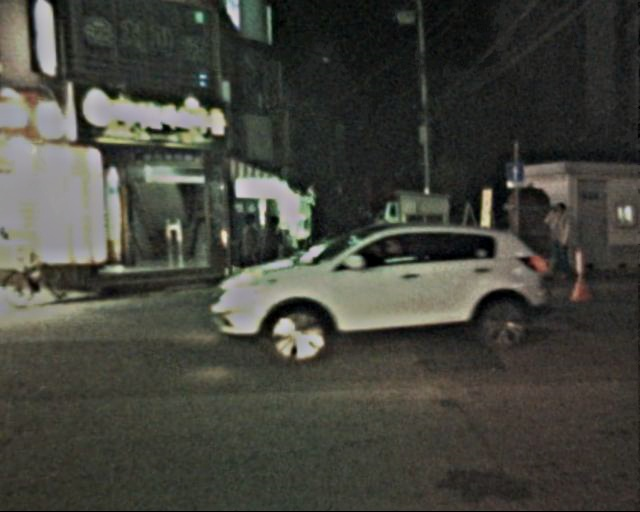person: (237, 212, 289, 302), (543, 202, 579, 288)
